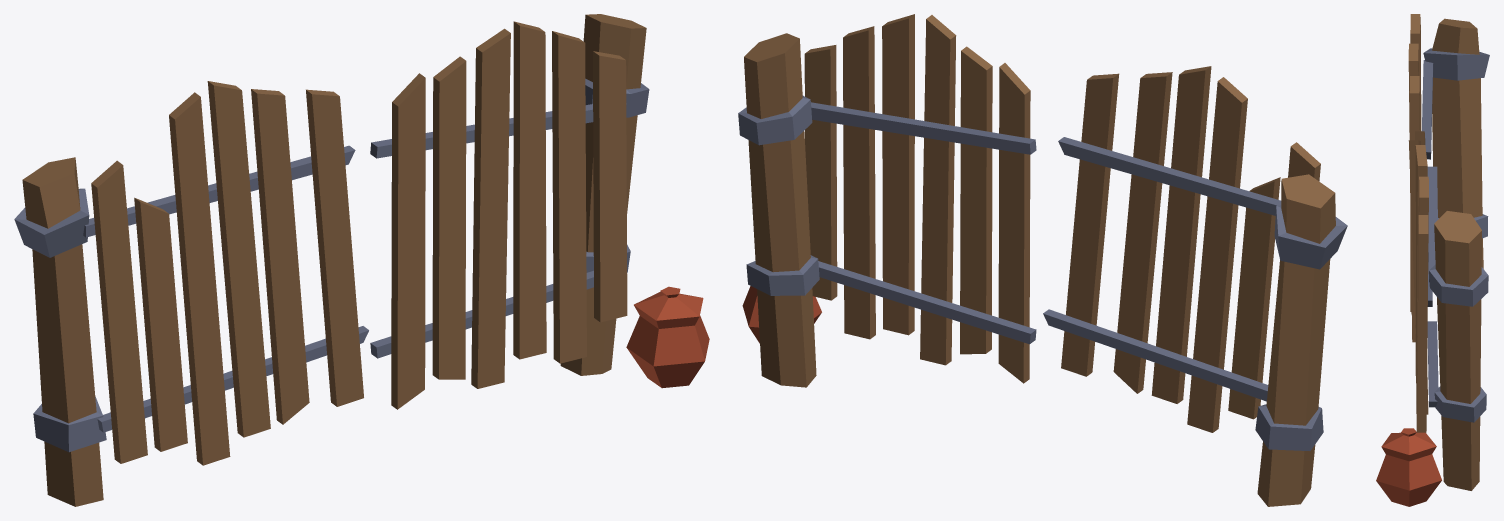
The picture shows the model from 3 angles, left to right: view 1: azimuth 30°, elevation 25°; view 2: azimuth 150°, elevation 25°; view 3: azimuth 270°, elevation 25°; orthographic projection. The views are drawn at different scales.
Parts seen in each view (by area): view 1: FenceGate2, FenceGate1, Post2, Post1, Pot; view 2: FenceGate1, FenceGate2, Post1, Post2, Pot; view 3: Post1, Post2, FenceGate1, Pot, FenceGate2.
Part boxes in pixels (x1,y1,x2,y2): FenceGate2: [83, 81, 368, 465]; FenceGate1: [370, 21, 627, 409]; Post2: [14, 157, 106, 506]; Post1: [560, 14, 649, 375]; Pot: [626, 286, 709, 388]; FenceGate1: [804, 14, 1036, 383]; FenceGate2: [1043, 66, 1320, 432]; Post1: [738, 33, 819, 387]; Post2: [1255, 174, 1347, 506]; Pot: [742, 286, 821, 343]; Post1: [1429, 211, 1488, 490]; Post2: [1423, 18, 1489, 268]; FenceGate1: [1408, 131, 1438, 432]; Pot: [1376, 428, 1441, 506]; FenceGate2: [1408, 14, 1433, 342].
Bounding box in the file's own units: 639 × 377 × 124.
